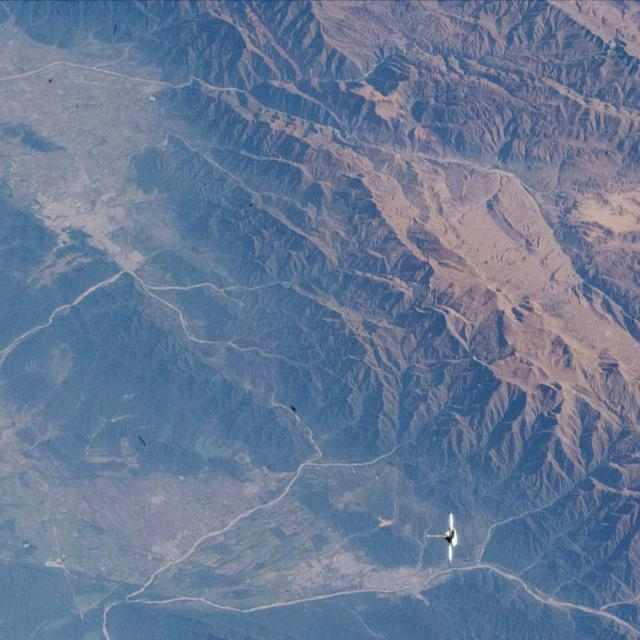satellite: (430, 508, 472, 567)
